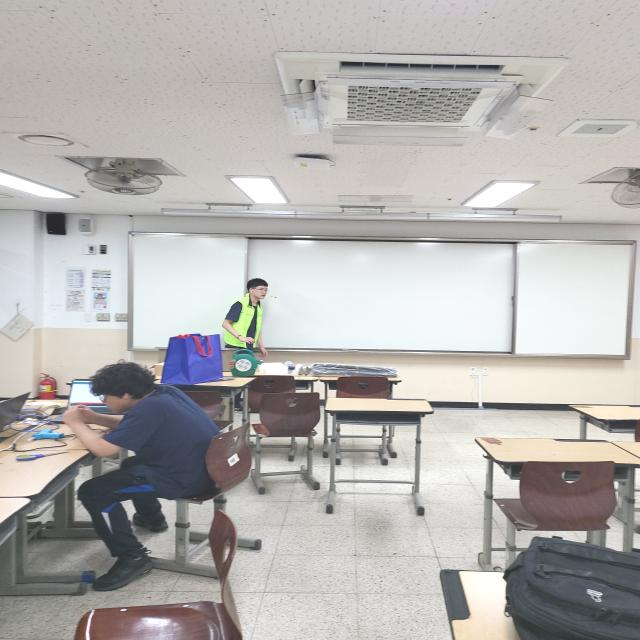weston_spy: (217, 294, 271, 348)
